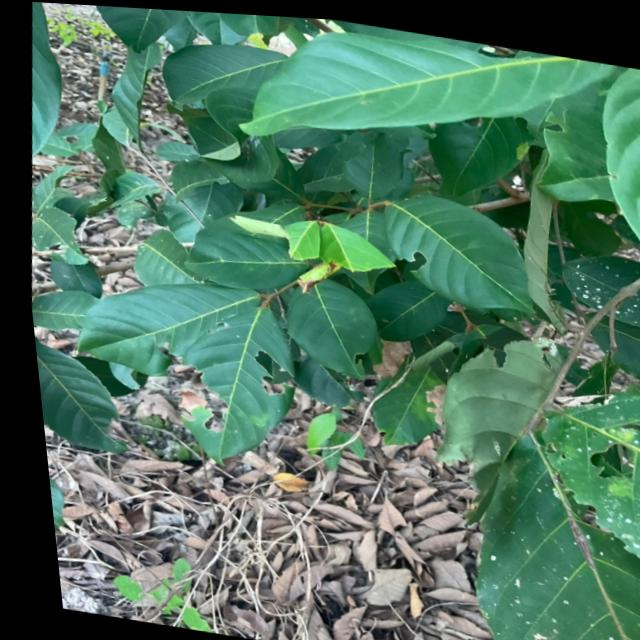Algal Leaf Spot: (453, 461, 640, 640), (528, 243, 640, 509)
